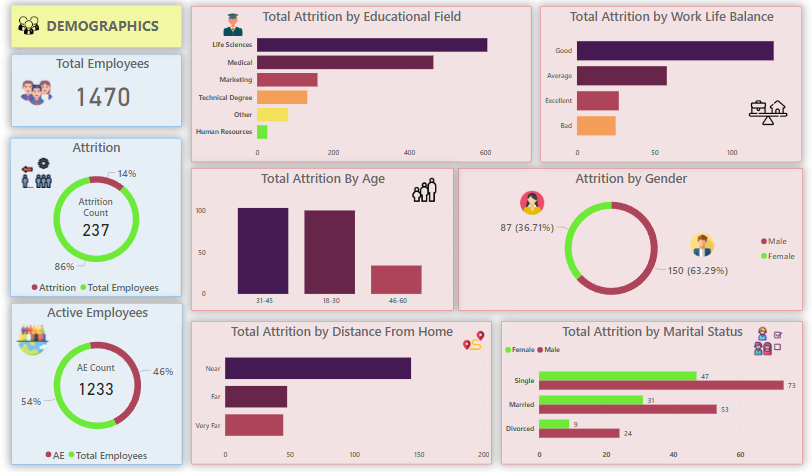

Layout of this report page (visuals, bound fields, positions):
{"tool":"powerbi","page":{"name":"Page 2","canvas":[1458,854],"ordinal":1},"visuals":[{"type":"donutChart","title":"Attrition by Gender","fields":{"Category":["HR-Employee-Attrition.Gender"],"Y":["Sum(HR-Employee-Attrition.Attrition Count)"]},"box":[822.6,303.2,616.1,254.8],"z":0},{"type":"clusteredBarChart","title":"Total Attrition by Educational Field","fields":{"Y":["CountNonNull(HR-Employee-Attrition.Attrition)"],"Category":["HR-Employee-Attrition.EducationField"]},"box":[346,14.3,607.9,279.4],"z":1000},{"type":"clusteredColumnChart","title":"Total Attrition By Age","fields":{"Y":["Sum(HR-Employee-Attrition.Attrition Count)"],"Category":["HR-Employee-Attrition.Age (groups)"]},"box":[346.8,303.2,469.4,254.8],"z":2000},{"type":"clusteredBarChart","title":"Total Attrition by Work Life Balance","fields":{"Category":["HR-Employee-Attrition.WorkLifeBalance (groups)"],"Y":["Sum(HR-Employee-Attrition.Attrition Count)"]},"box":[969.8,14.3,468.3,279.4],"z":3000},{"type":"card","title":"Total Employees","fields":{"Values":["Sum(HR-Employee-Attrition.EmployeeCount)"]},"box":[25.4,100,304.8,130.2],"z":4000},{"type":"image","box":[31.7,136.5,76.2,66.7],"z":5000},{"type":"donutChart","title":"Attrition","fields":{"Y":["Sum(HR-Employee-Attrition.Attrition Count)","Sum(HR-Employee-Attrition.EmployeeCount)"]},"box":[23.8,249.2,306.3,284.1],"z":6000},{"type":"textbox","title":"DEMOGRAPHICS","box":[25.4,12.7,304.8,76.2],"z":7000},{"type":"image","box":[32.7,20.4,49,59.2],"z":8000},{"type":"image","box":[31.7,277.8,76.2,66.7],"z":9000},{"type":"donutChart","title":"Active Employees","fields":{"Y":["HR-Employee-Attrition.AE","Sum(HR-Employee-Attrition.EmployeeCount)"]},"box":[24.2,545.2,306.5,288.7],"z":10000},{"type":"card","title":"Attrition Count","fields":{"Values":["Sum(HR-Employee-Attrition.Attrition Count)"]},"box":[136.5,352.4,81,79.4],"z":11000},{"type":"card","title":"AE Count","fields":{"Values":["HR-Employee-Attrition.AE"]},"box":[136.5,647.6,81,79.4],"z":12000},{"type":"image","box":[25.4,577.8,76.2,66.7],"z":13000},{"type":"image","box":[729,316.1,69.4,53.2],"z":14000},{"type":"image","box":[383.9,21,74.2,53.2],"z":15000},{"type":"image","box":[1337.1,164.5,79,80.6],"z":16000},{"type":"clusteredBarChart","title":"Total Attrition by Distance From Home","fields":{"Y":["Sum(HR-Employee-Attrition.Attrition Count)"],"Category":["HR-Employee-Attrition.DistanceFromHome (groups)"]},"box":[346.8,577.4,537.1,256.5],"z":17000},{"type":"image","box":[822.6,587.1,54.8,48.4],"z":18000},{"type":"clusteredBarChart","title":"Total Attrition by Marital Status","fields":{"Y":["Sum(HR-Employee-Attrition.Attrition Count)"],"Category":["HR-Employee-Attrition.MaritalStatus"],"Series":["HR-Employee-Attrition.Gender"]},"box":[900,577.4,538.7,256.5],"z":19000},{"type":"image","box":[1329,582.3,96.8,61.3],"z":20000},{"type":"image","box":[922.6,338.7,64.5,53.2],"z":21000},{"type":"image","box":[1227.4,414.5,64.5,53.2],"z":22000}]}

Visuals, with their boxes in screenshot pixels (x1, y1, x2, y2), scaled from the page's 1458x854 canvas onto the 812x472 screenshot:
"Attrition by Gender" donutChart: rect(458, 168, 801, 308)
"Total Attrition by Educational Field" clusteredBarChart: rect(193, 8, 531, 162)
"Total Attrition By Age" clusteredColumnChart: rect(193, 168, 455, 308)
"Total Attrition by Work Life Balance" clusteredBarChart: rect(540, 8, 801, 162)
"Total Employees" card: rect(14, 55, 184, 127)
image: rect(18, 75, 60, 112)
"Attrition" donutChart: rect(13, 138, 184, 295)
"DEMOGRAPHICS" textbox: rect(14, 7, 184, 49)
image: rect(18, 11, 46, 44)
image: rect(18, 154, 60, 190)
"Active Employees" donutChart: rect(13, 301, 184, 461)
"Attrition Count" card: rect(76, 195, 121, 239)
"AE Count" card: rect(76, 358, 121, 402)
image: rect(14, 319, 57, 356)
image: rect(406, 175, 445, 204)
image: rect(214, 12, 255, 41)
image: rect(745, 91, 789, 135)
"Total Attrition by Distance From Home" clusteredBarChart: rect(193, 319, 492, 461)
image: rect(458, 324, 489, 351)
"Total Attrition by Marital Status" clusteredBarChart: rect(501, 319, 801, 461)
image: rect(740, 322, 794, 356)
image: rect(514, 187, 550, 217)
image: rect(684, 229, 719, 258)
